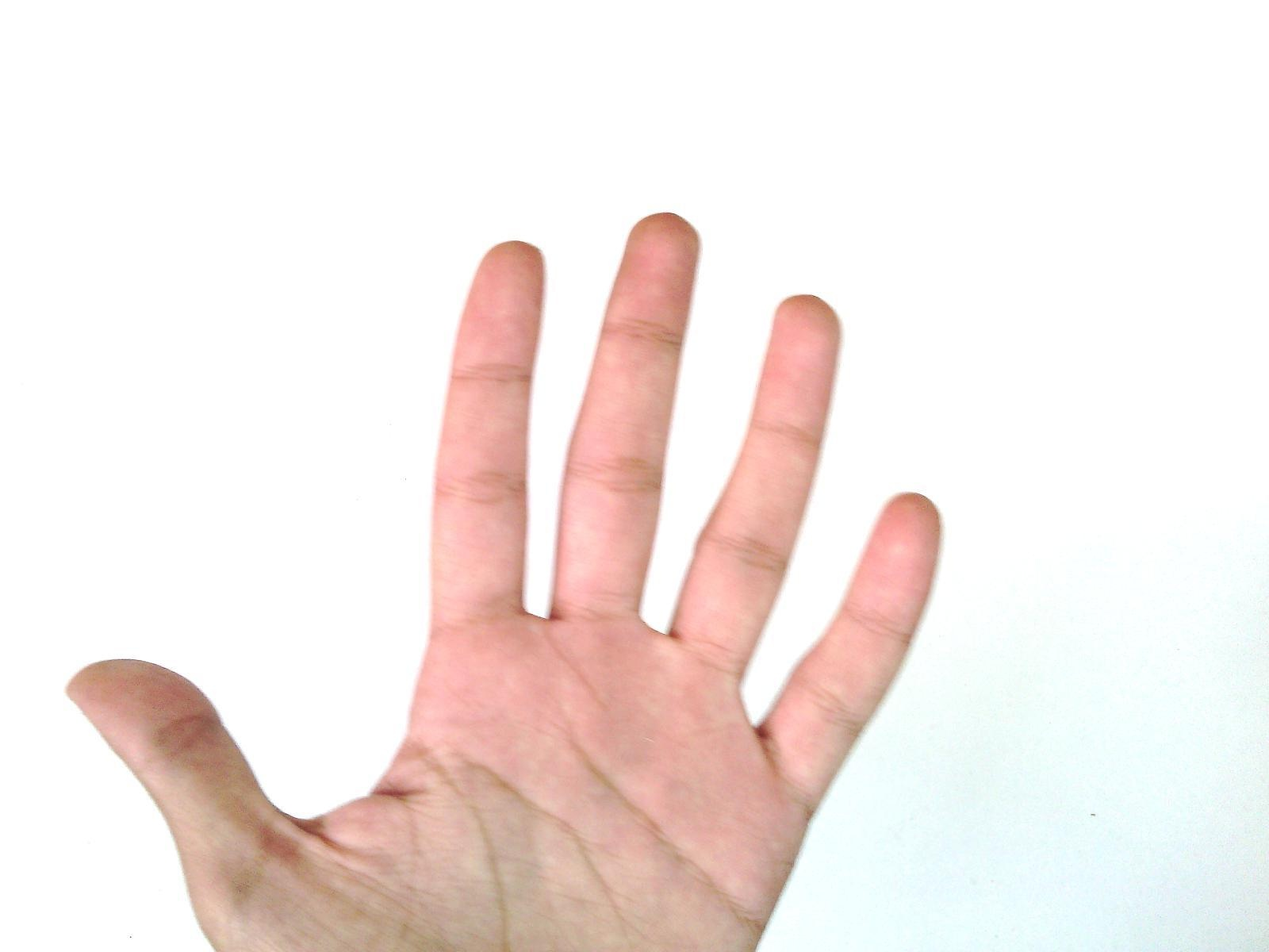open_palm: (64, 211, 946, 952)
